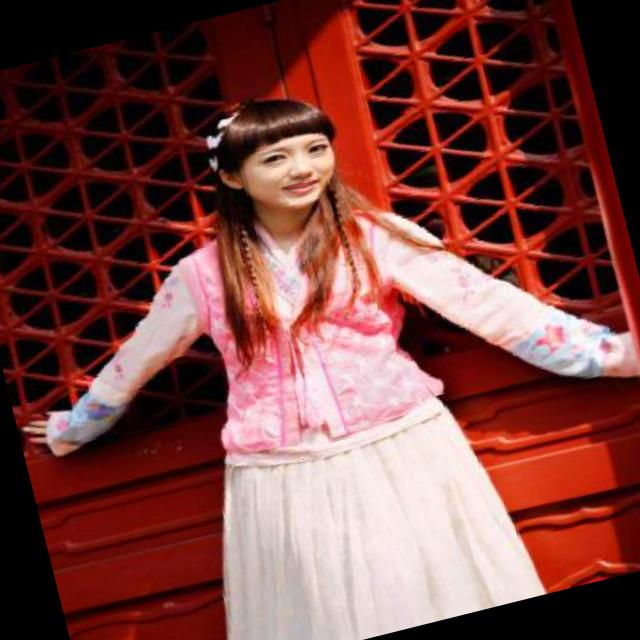Person: (41, 27, 607, 640)
